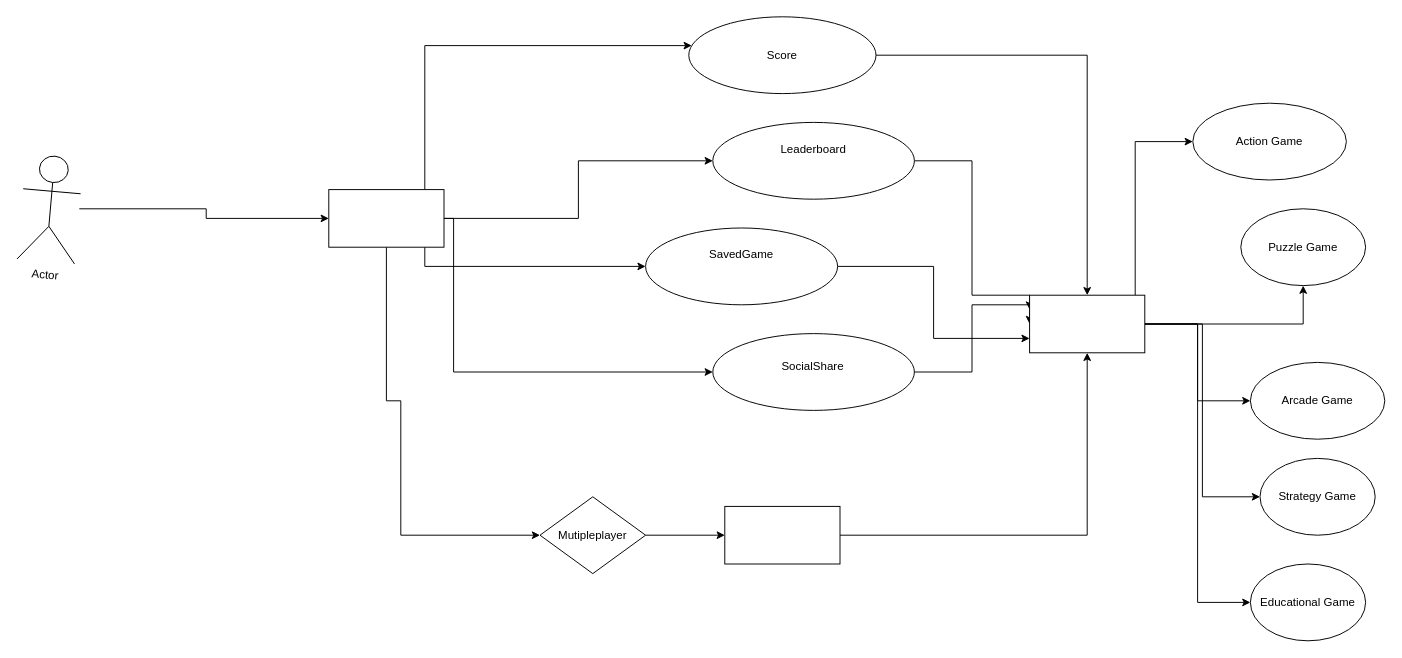
Some shapes in this 1402 by 658 pixel diagram are drawn without their labels. Here are the shapes that lost their labels. From the top down, the centre of each, then its label:
the point at 386,218: Player
the point at 1087,323: Game
the point at 782,534: Player 2
